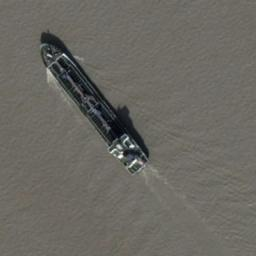boat: (38, 38, 150, 175)
